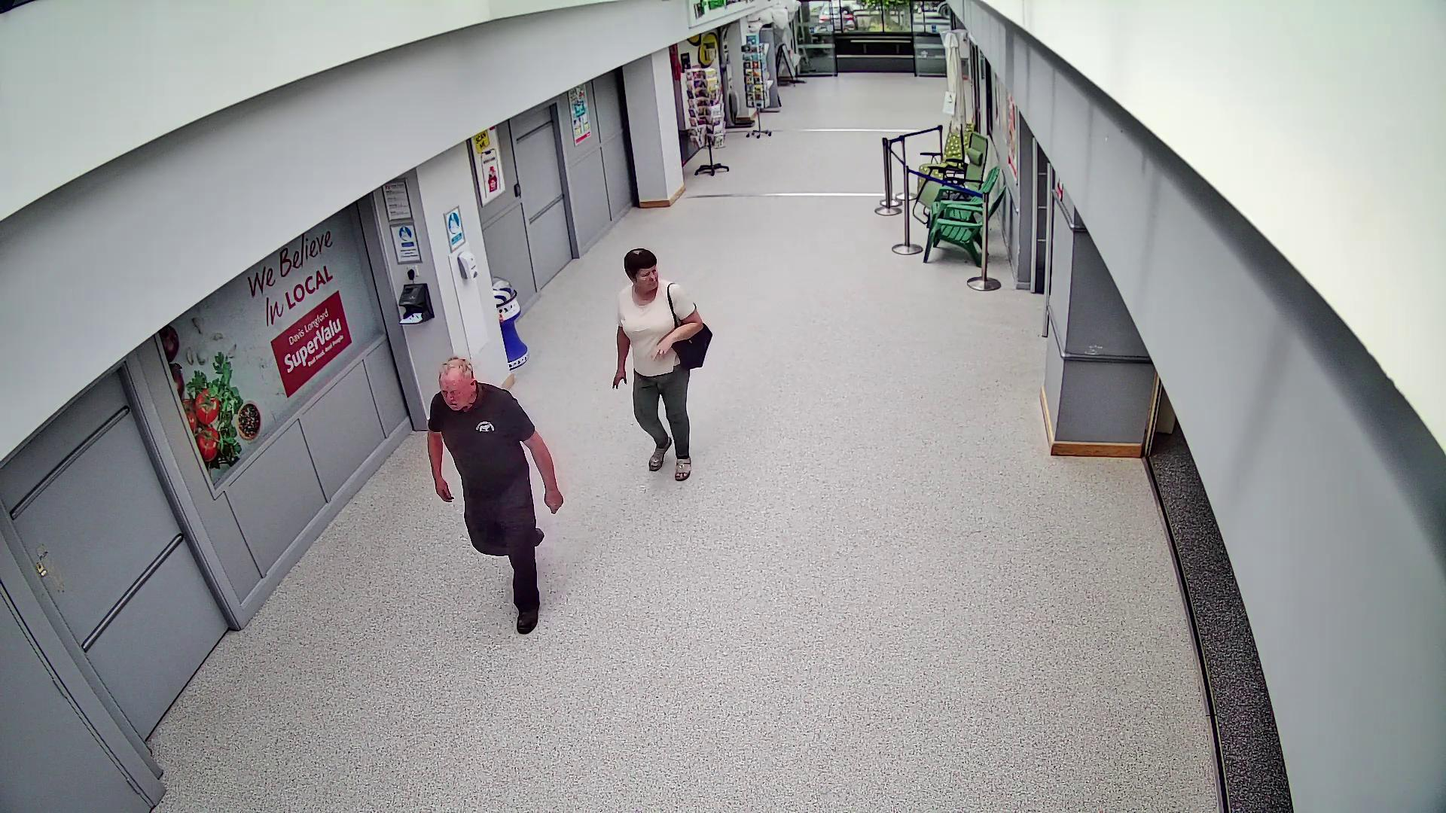backpack-or-handbag: (675, 322, 712, 367)
person: (610, 248, 712, 482)
person-with-backpack-handbag: (613, 248, 713, 482)
